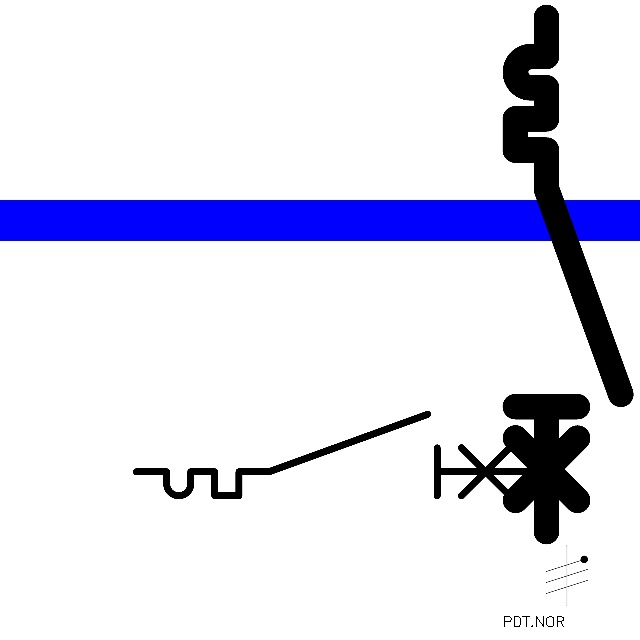interruptor_termomagnetico: (502, 4, 634, 545), (126, 404, 543, 506)
